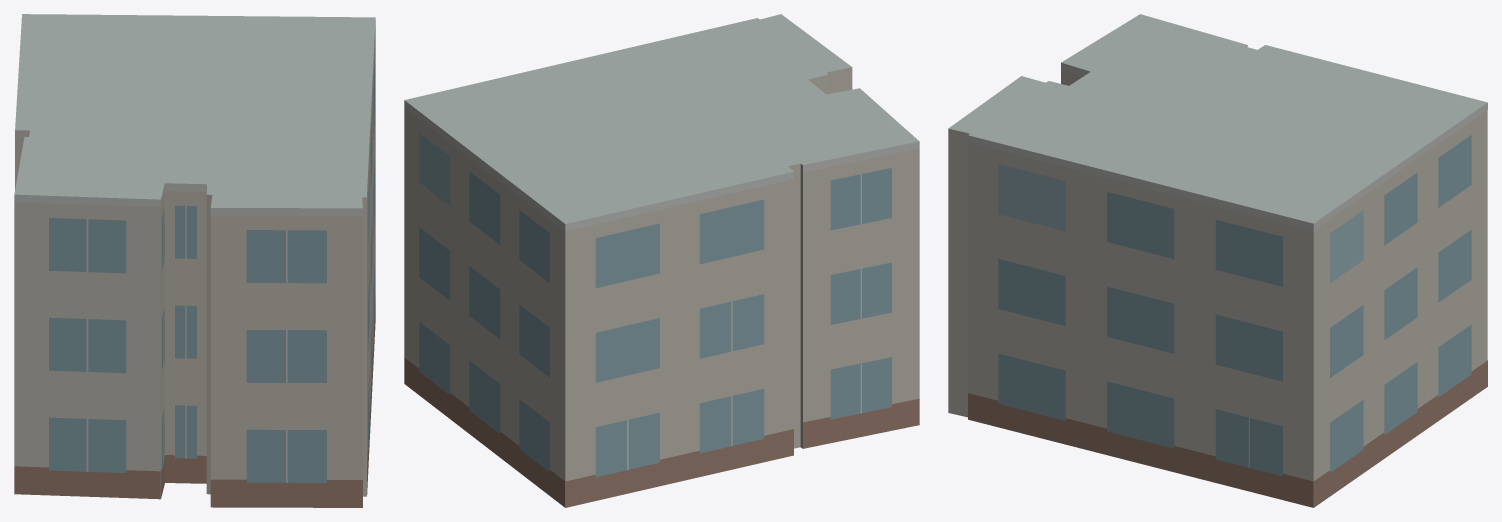
Rendered from survey-upis-32709498.glb.
3 views of the same model, side by side, from view 1: azimuth 30°, elevation 25°; view 2: azimuth 150°, elevation 25°; view 3: azimuth 270°, elevation 25° (orthographic). The views are drawn at different scales.
Visible parts, largest first — view 1: survey-upis-32709498.tmp; view 2: survey-upis-32709498.tmp; view 3: survey-upis-32709498.tmp.
Boxes of the visible parts, x1=… form: survey-upis-32709498.tmp: x1=14, y1=14, x2=375, y2=507; survey-upis-32709498.tmp: x1=404, y1=14, x2=919, y2=507; survey-upis-32709498.tmp: x1=948, y1=14, x2=1487, y2=507.
Bounding box in the file's own units: 14.97 × 9.46 × 16.28.
